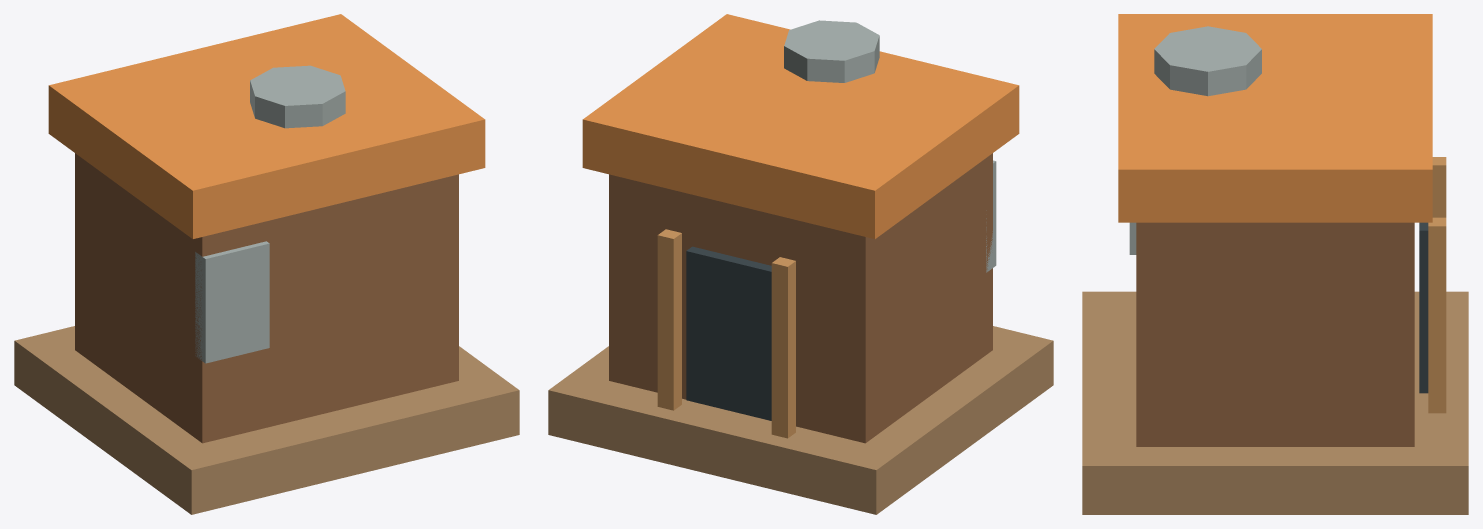
File: workshop.glb
The picture shows the model from 3 angles, left to right: view 1: azimuth 30°, elevation 25°; view 2: azimuth 150°, elevation 25°; view 3: azimuth 270°, elevation 25°; orthographic projection. The views are drawn at different scales.
Parts seen in each view (by area): view 1: workshop_body, roof, foundation, tool_rack, vent; view 2: roof, workshop_body, foundation, door, vent, door_frame.001, door_frame, tool_rack; view 3: workshop_body, roof, foundation, vent, door_frame.001, door, door_frame.
Part boxes in pixels (x1,y1,x2,y2): workshop_body: (75,153,458,443); roof: (48,14,485,238); foundation: (14,326,519,514); tool_rack: (195,241,269,363); vent: (250,65,345,128); roof: (582,14,1019,238); workshop_body: (609,153,992,443); foundation: (548,326,1053,514); door: (686,246,771,420); vent: (784,20,879,82); door_frame.001: (657,229,681,410); door_frame: (771,257,795,438); tool_rack: (986,160,996,272); workshop_body: (1136,222,1414,446); roof: (1118,14,1432,222); foundation: (1082,291,1468,514); vent: (1154,26,1261,96); door_frame.001: (1428,217,1446,413); door: (1419,222,1428,393); door_frame: (1432,157,1446,217).
Bounding box in the file's own units: 0.92 × 0.93 × 0.86.
